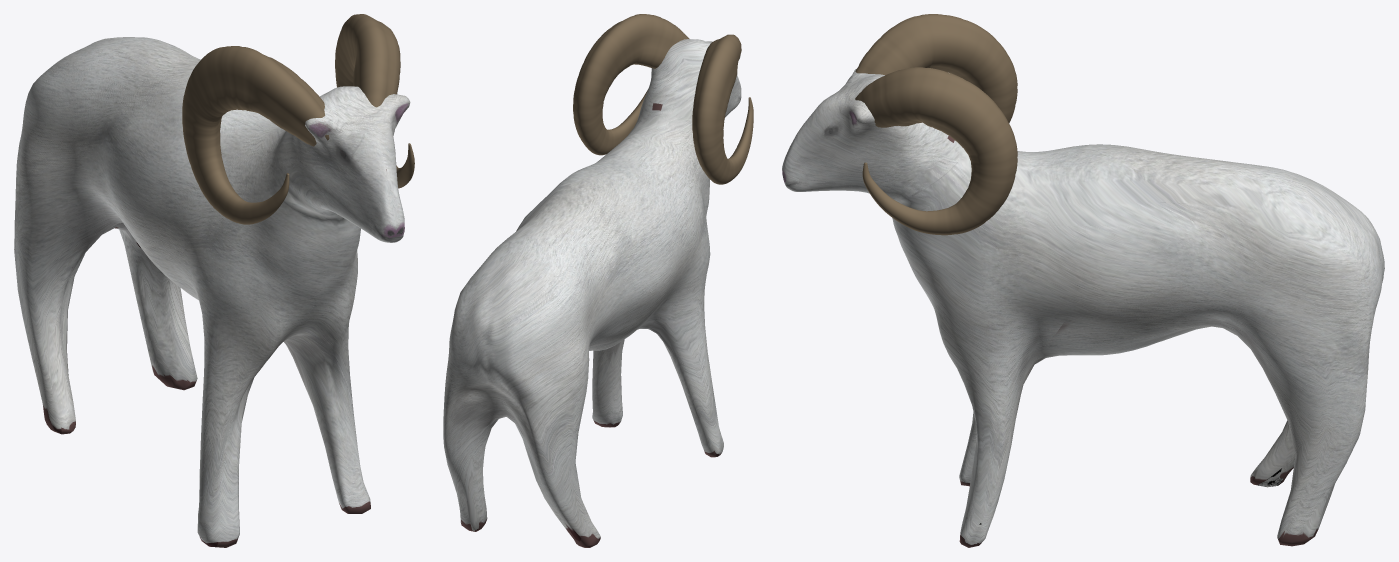
File: bighorn-rest-review.glb
3 renders of one model, left to right at view 1: azimuth 30°, elevation 25°; view 2: azimuth 150°, elevation 25°; view 3: azimuth 270°, elevation 25°, orthographic. The views are drawn at different scales.
Visible parts, largest first — view 1: p0ss_Sheep2_whole_body_bighorn_adaptation_rest_bake, Bighorn_horn_-1_rest_bake, Bighorn_horn_1_rest_bake; view 2: p0ss_Sheep2_whole_body_bighorn_adaptation_rest_bake, Bighorn_horn_1_rest_bake, Bighorn_horn_-1_rest_bake; view 3: p0ss_Sheep2_whole_body_bighorn_adaptation_rest_bake, Bighorn_horn_1_rest_bake, Bighorn_horn_-1_rest_bake.
Part boxes in pixels (x1=…): p0ss_Sheep2_whole_body_bighorn_adaptation_rest_bake: x1=14, y1=37, x2=410, y2=547; Bighorn_horn_-1_rest_bake: x1=182, y1=46, x2=329, y2=224; Bighorn_horn_1_rest_bake: x1=335, y1=14, x2=414, y2=188; p0ss_Sheep2_whole_body_bighorn_adaptation_rest_bake: x1=443, y1=39, x2=741, y2=547; Bighorn_horn_1_rest_bake: x1=573, y1=14, x2=689, y2=155; Bighorn_horn_-1_rest_bake: x1=692, y1=34, x2=753, y2=184; p0ss_Sheep2_whole_body_bighorn_adaptation_rest_bake: x1=782, y1=69, x2=1384, y2=547; Bighorn_horn_1_rest_bake: x1=855, y1=67, x2=1017, y2=235; Bighorn_horn_-1_rest_bake: x1=855, y1=14, x2=1017, y2=123.
Bounding box in the file's own units: 0.4441 × 1.19 × 1.37.
Materials: 2 (1 with a texture image).
